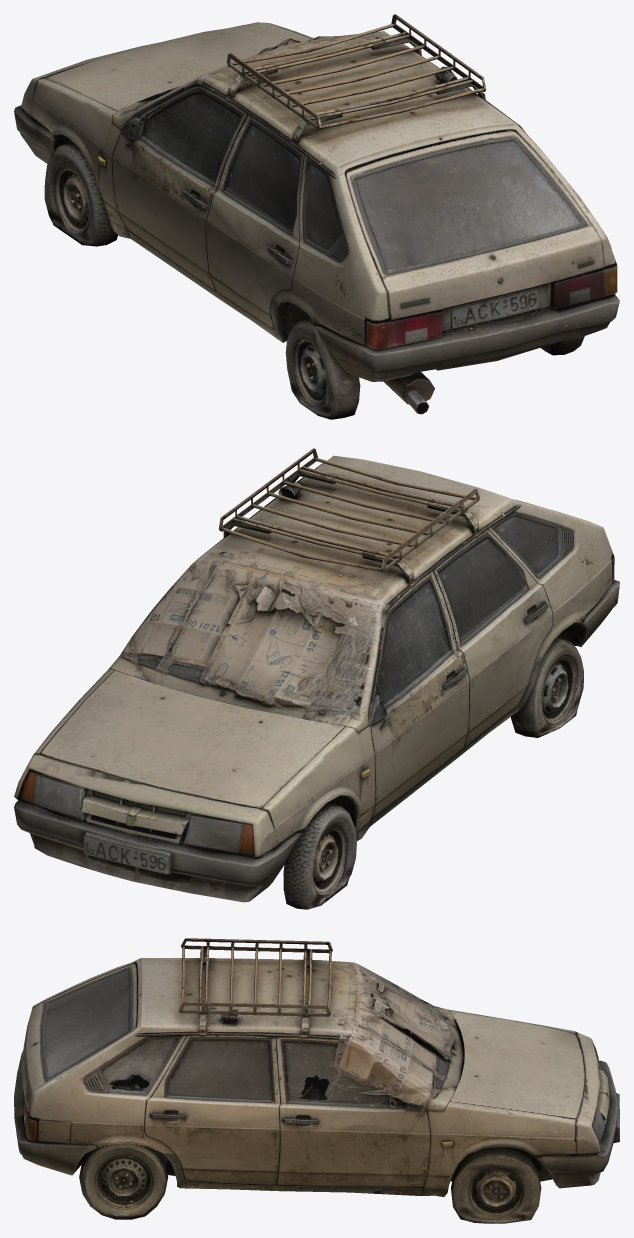
The model's file is dirty_car.glb.
3 renders of one model, top to bottom at view 1: azimuth 30°, elevation 25°; view 2: azimuth 150°, elevation 25°; view 3: azimuth 270°, elevation 25°, orthographic. The views are drawn at different scales.
Parts seen in each view (by area): view 1: Material; view 2: Material; view 3: Material.
Part boxes in pixels (bbox=[...]): Material: bbox=[14, 14, 619, 419]; Material: bbox=[14, 448, 619, 909]; Material: bbox=[14, 938, 619, 1223].
Bounding box in the file's own units: 92.03 × 80.88 × 221.
Materials: 1 (1 with a texture image).
